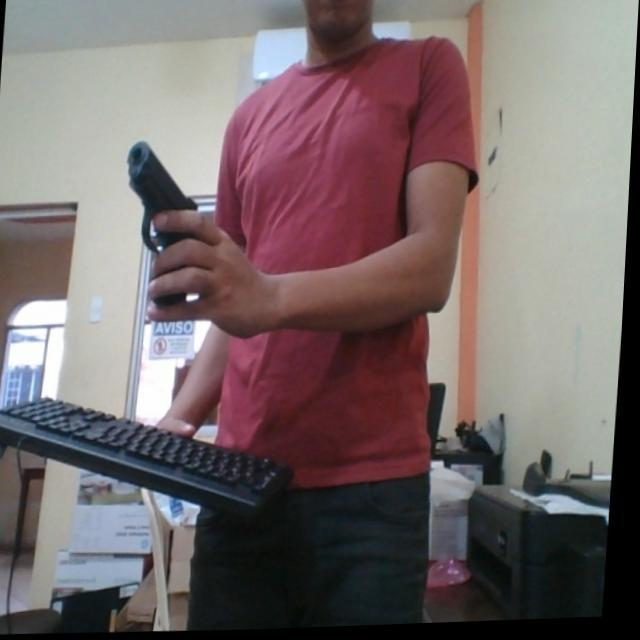weapon: (119, 137, 208, 310)
